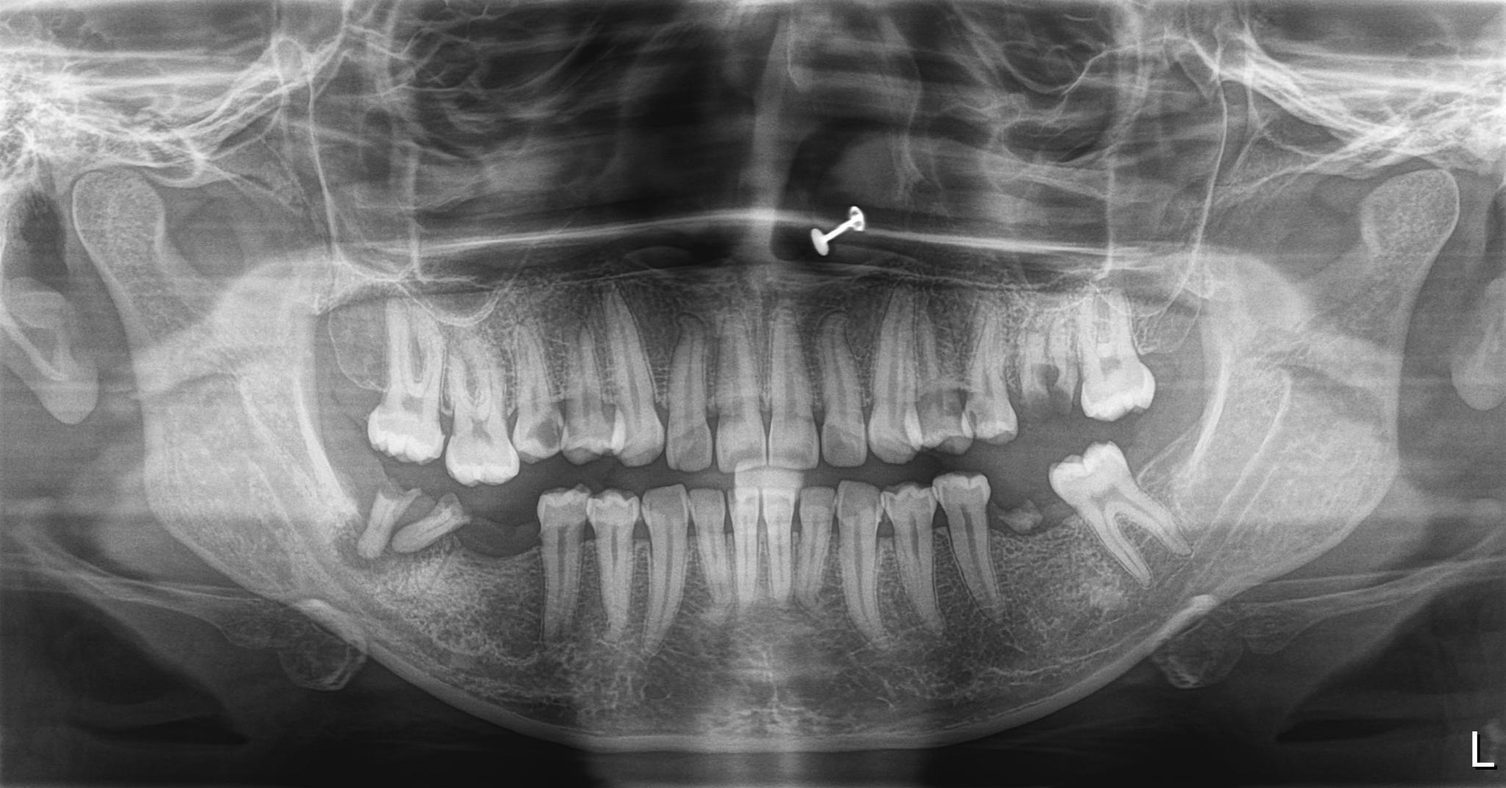Dental Caries: (513, 404, 579, 458)
Missing Tooth: (991, 493, 1080, 636), (1132, 305, 1230, 427), (471, 487, 555, 619), (1160, 459, 1251, 565), (322, 294, 392, 424)
Retained Root: (1009, 301, 1089, 439), (368, 481, 467, 569)
